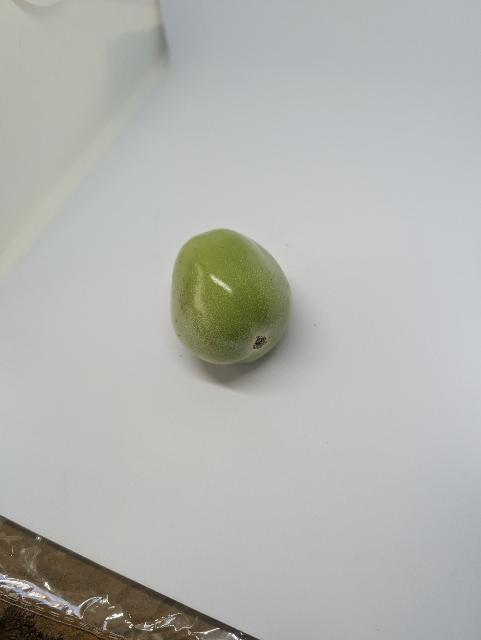green: (171, 227, 295, 369)
